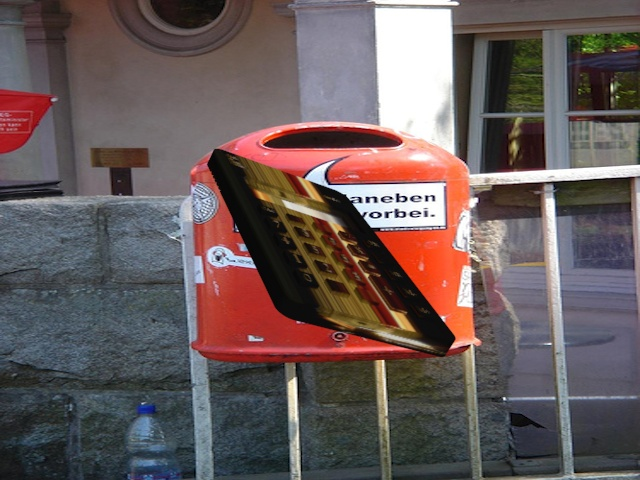calculator: (201, 144, 462, 368)
